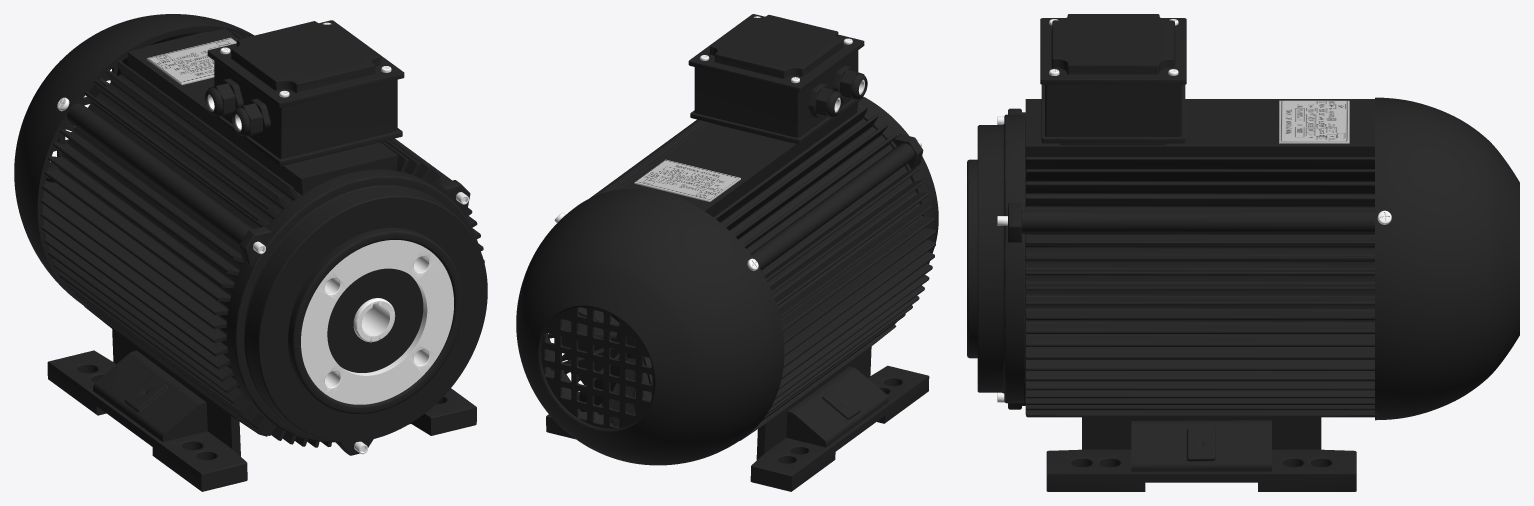
Rendered from electric_motor.gltf.
3 renders of one model, left to right at view 1: azimuth 30°, elevation 25°; view 2: azimuth 150°, elevation 25°; view 3: azimuth 270°, elevation 25°, orthographic. The views are drawn at different scales.
Visible parts, largest first — view 1: Object_5, Object_3, Object_4, Object_2; view 2: Object_5, Object_4, Object_2, Object_3; view 3: Object_5, Object_4, Object_2, Object_3.
Part boxes in pixels (x1=…): Object_5: x1=40, y1=20, x2=487, y2=491; Object_3: x1=57, y1=22, x2=468, y2=454; Object_4: x1=14, y1=14, x2=254, y2=306; Object_2: x1=146, y1=37, x2=236, y2=85; Object_5: x1=546, y1=14, x2=938, y2=491; Object_4: x1=516, y1=188, x2=784, y2=465; Object_2: x1=634, y1=159, x2=740, y2=201; Object_3: x1=554, y1=16, x2=921, y2=270; Object_5: x1=967, y1=14, x2=1377, y2=491; Object_4: x1=1375, y1=97, x2=1519, y2=420; Object_2: x1=1279, y1=100, x2=1349, y2=143; Object_3: x1=997, y1=19, x2=1391, y2=402.
Size of the model in its own units: 22.9 by 30.2 by 39.25.
Materials: 4 (1 with a texture image).
